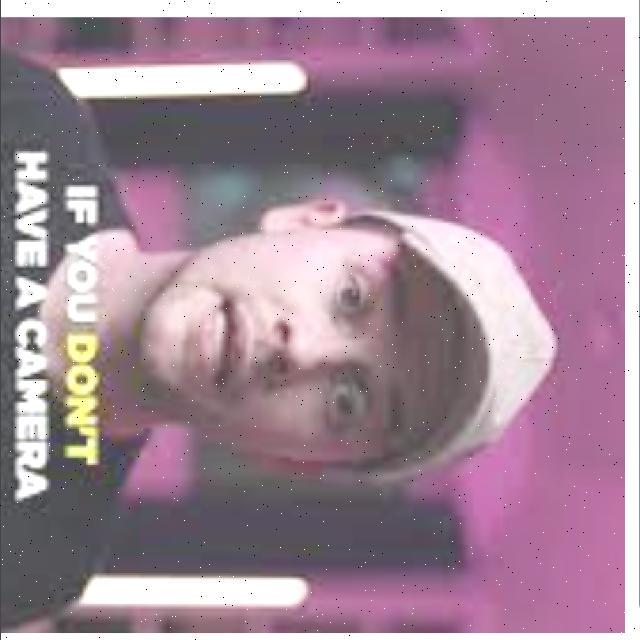face_no_mask: (129, 201, 456, 475)
